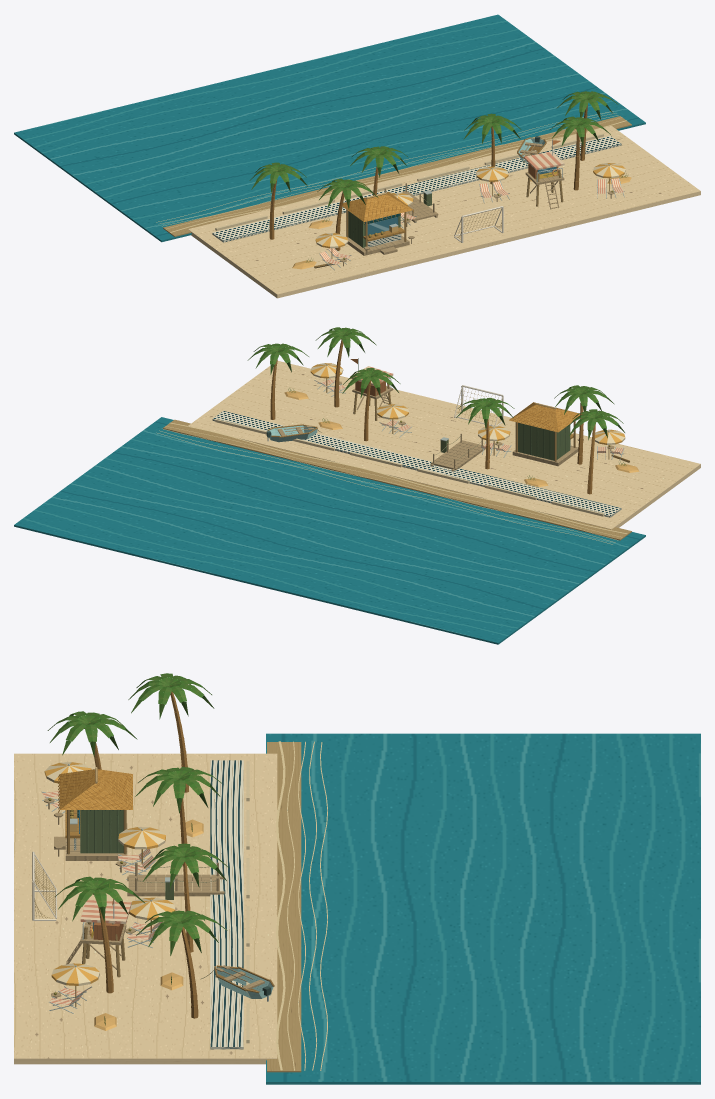
The model's file is beach-lod1.glb.
3 renders of one model, top to bottom at view 1: azimuth 30°, elevation 25°; view 2: azimuth 150°, elevation 25°; view 3: azimuth 270°, elevation 25°, orthographic. The views are drawn at different scales.
Visible parts, largest first — view 1: beach-lod1; view 2: beach-lod1; view 3: beach-lod1.
Boxes of the visible parts, x1,y1,x2,y2 form: beach-lod1: [14, 14, 700, 298]; beach-lod1: [14, 327, 700, 644]; beach-lod1: [14, 673, 700, 1084].
Bounding box in the file's own units: 36 × 5.65 × 30.
1 material, 1 textured.
